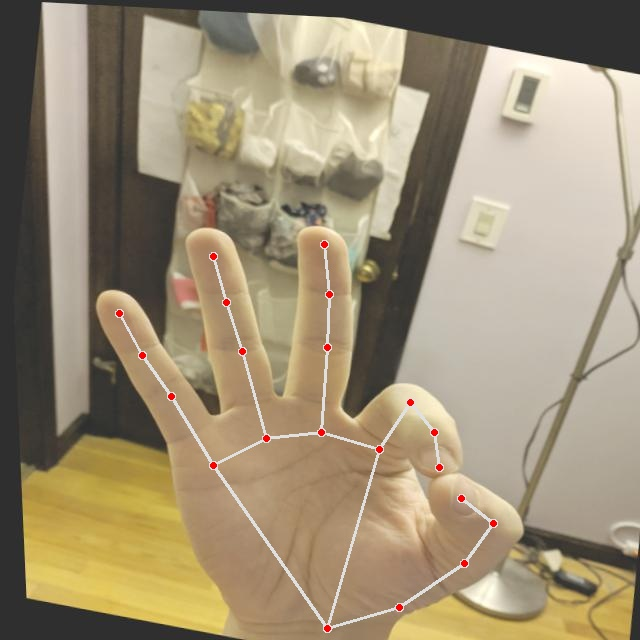F: (39, 176, 572, 639)
